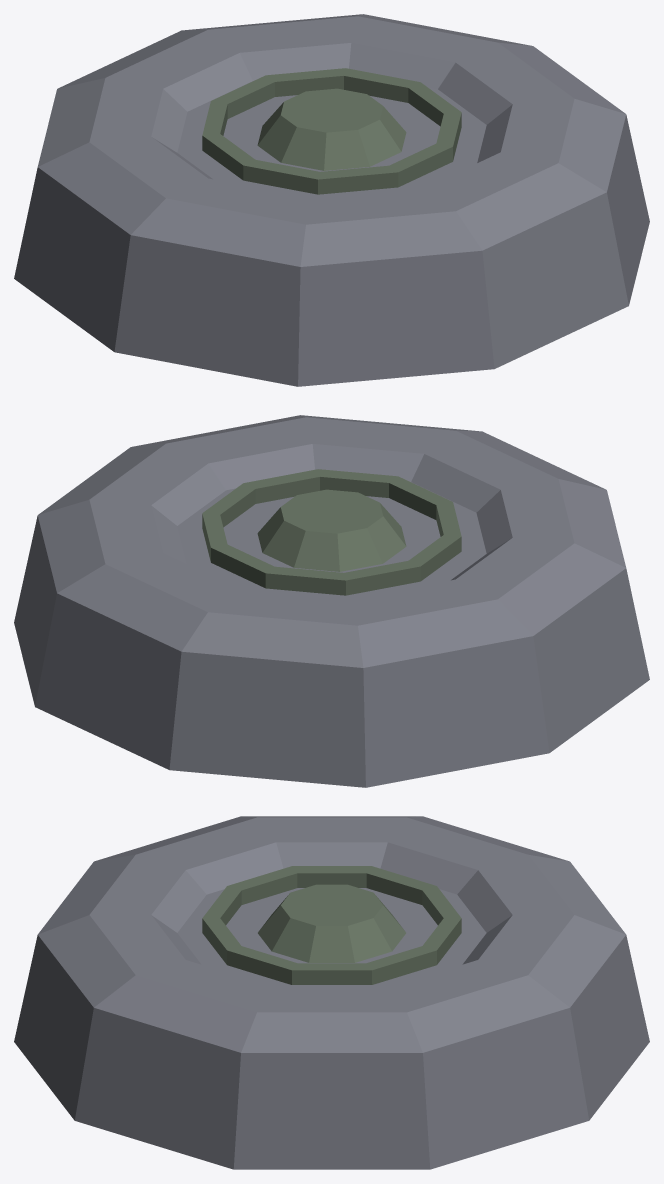
Rendered from jumppad.fbx.
The picture shows the model from 3 angles, top to bottom: view 1: azimuth 30°, elevation 25°; view 2: azimuth 150°, elevation 25°; view 3: azimuth 270°, elevation 25°; orthographic projection. The views are drawn at different scales.
Parts seen in each view (by area): view 1: Cylinder; view 2: Cylinder; view 3: Cylinder.
Boxes of the visible parts, box(x1,y1,x2,y2) form: Cylinder: box(14, 14, 649, 386); Cylinder: box(14, 415, 649, 787); Cylinder: box(14, 816, 649, 1169).
Bounding box in the file's own units: 190 × 47.38 × 200.
